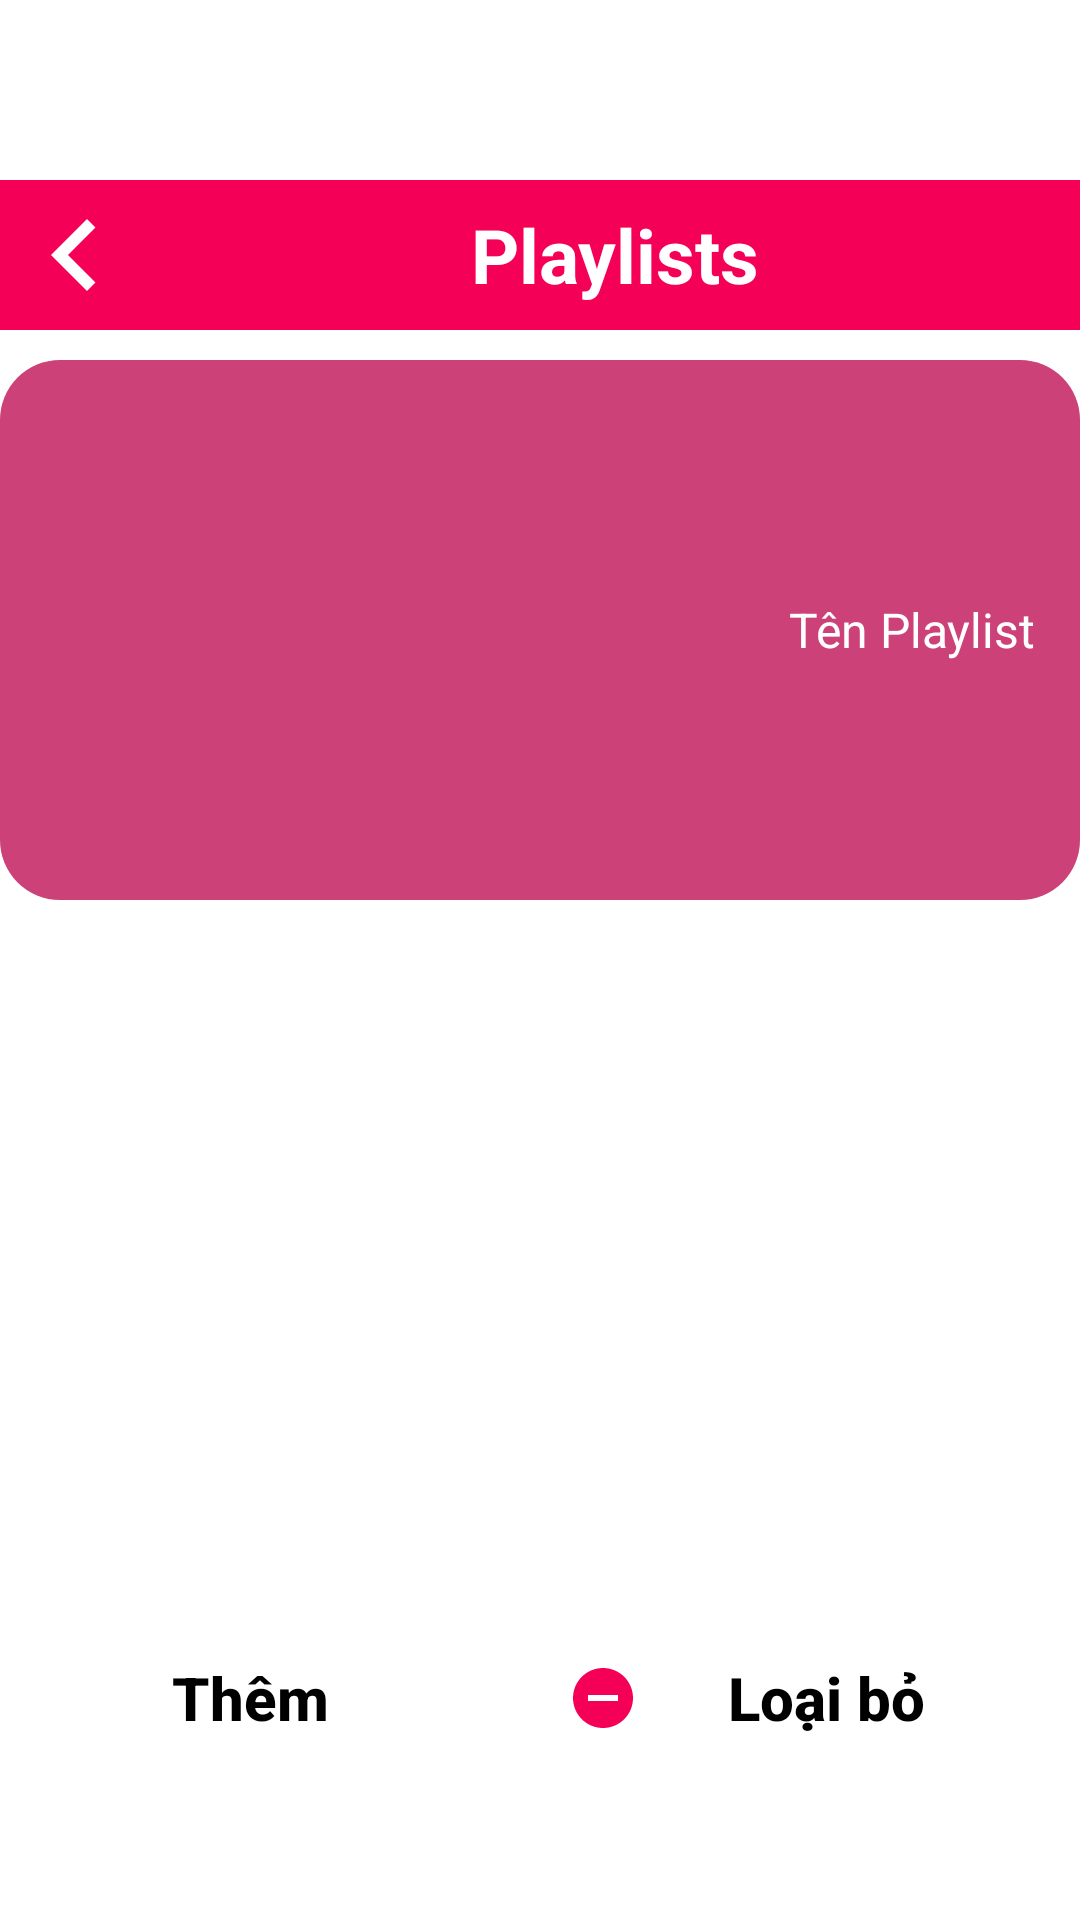

Icon click points for this 1080×1920 phone screenshot, format (x=x, y=y):
Trở lại: (x=73, y=255)
